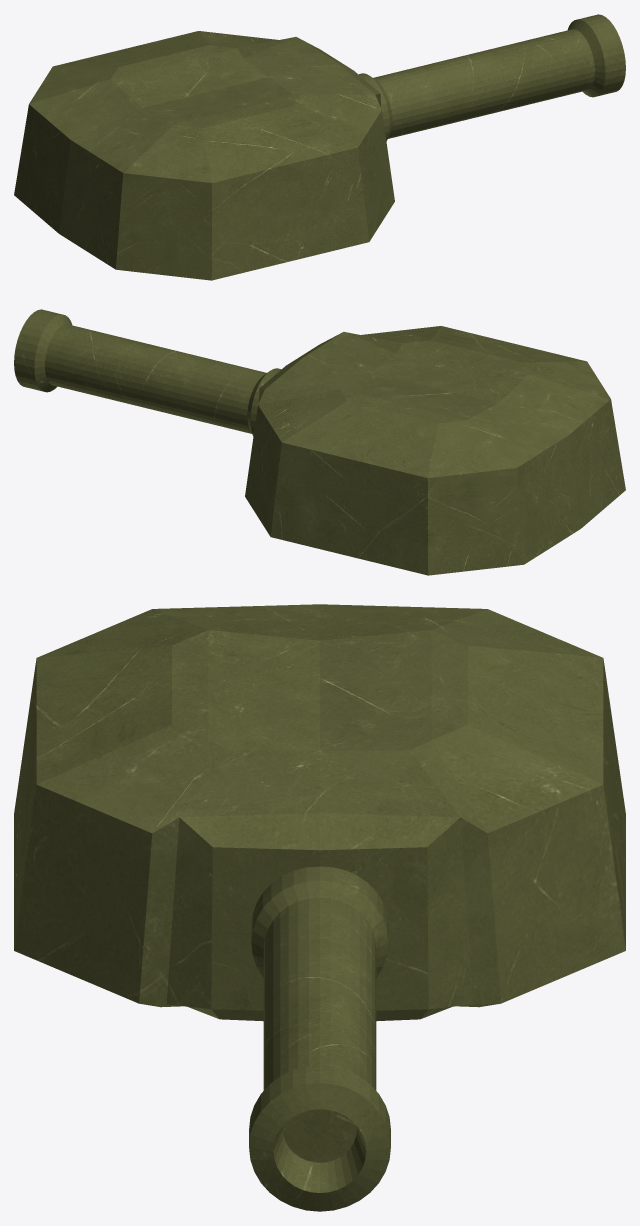
The model's file is SingleBarrelTurret.fbx.
The picture shows the model from 3 angles, top to bottom: view 1: azimuth 30°, elevation 25°; view 2: azimuth 150°, elevation 25°; view 3: azimuth 270°, elevation 25°; orthographic projection. The views are drawn at different scales.
Parts seen in each view (by area): view 1: SingelBarrelTurret; view 2: SingelBarrelTurret; view 3: SingelBarrelTurret.
Boxes of the visible parts, box(x1,y1,x2,y2) form: SingelBarrelTurret: box(14, 14, 625, 280); SingelBarrelTurret: box(14, 309, 625, 575); SingelBarrelTurret: box(14, 604, 625, 1211).
Bounding box in the file's own units: 1649 × 458 × 892.
